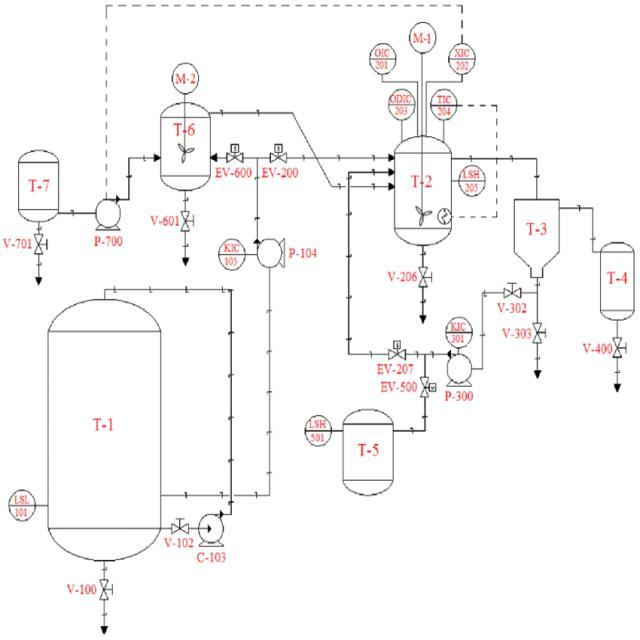Centrifugal Pump: (86, 188, 128, 232), (194, 504, 230, 552), (248, 229, 288, 270), (446, 349, 474, 391)
Hand Operated Gate Valve: (96, 578, 121, 612), (167, 514, 191, 536), (179, 206, 196, 236), (32, 232, 52, 256), (530, 318, 548, 344), (612, 333, 628, 361), (418, 266, 436, 290), (503, 278, 522, 300)
Solenoid Operated Gate Valve: (264, 134, 290, 164), (223, 139, 248, 167), (384, 336, 410, 362), (419, 368, 437, 399)
